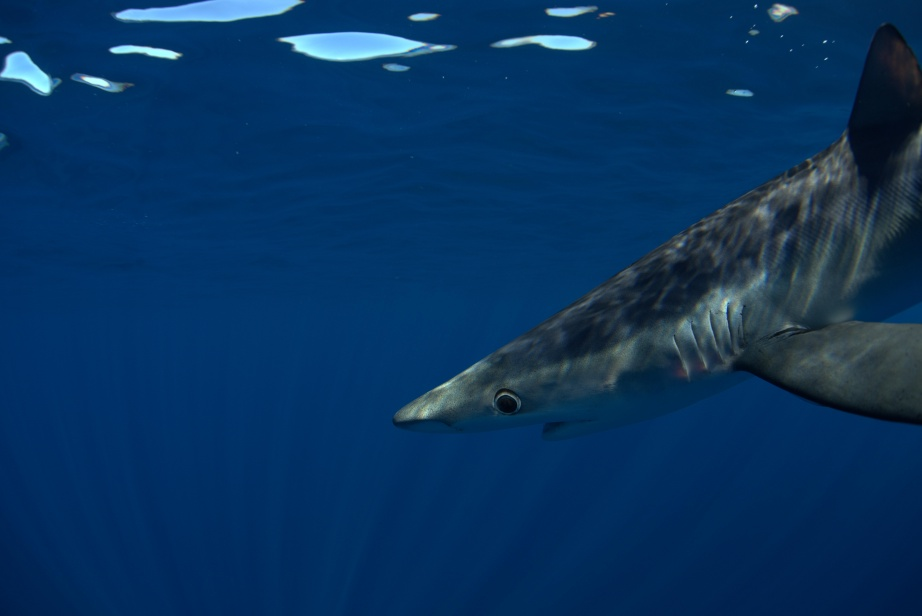Azul: (343, 1, 922, 475)
